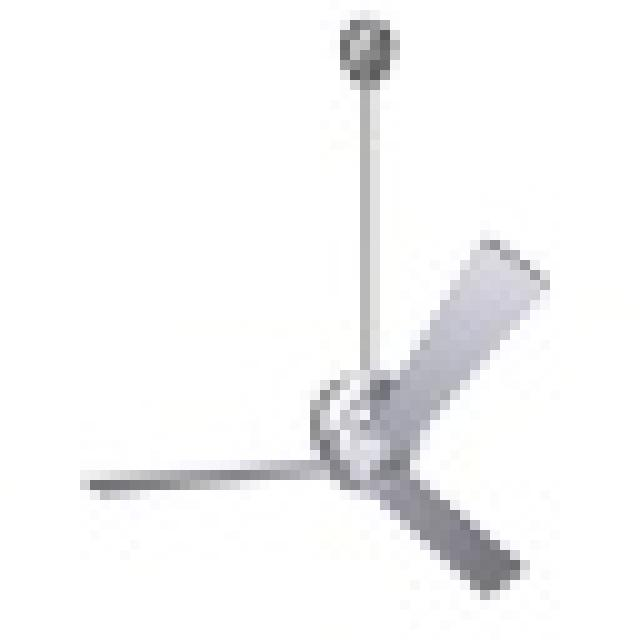Bulb: (77, 233, 597, 614)
